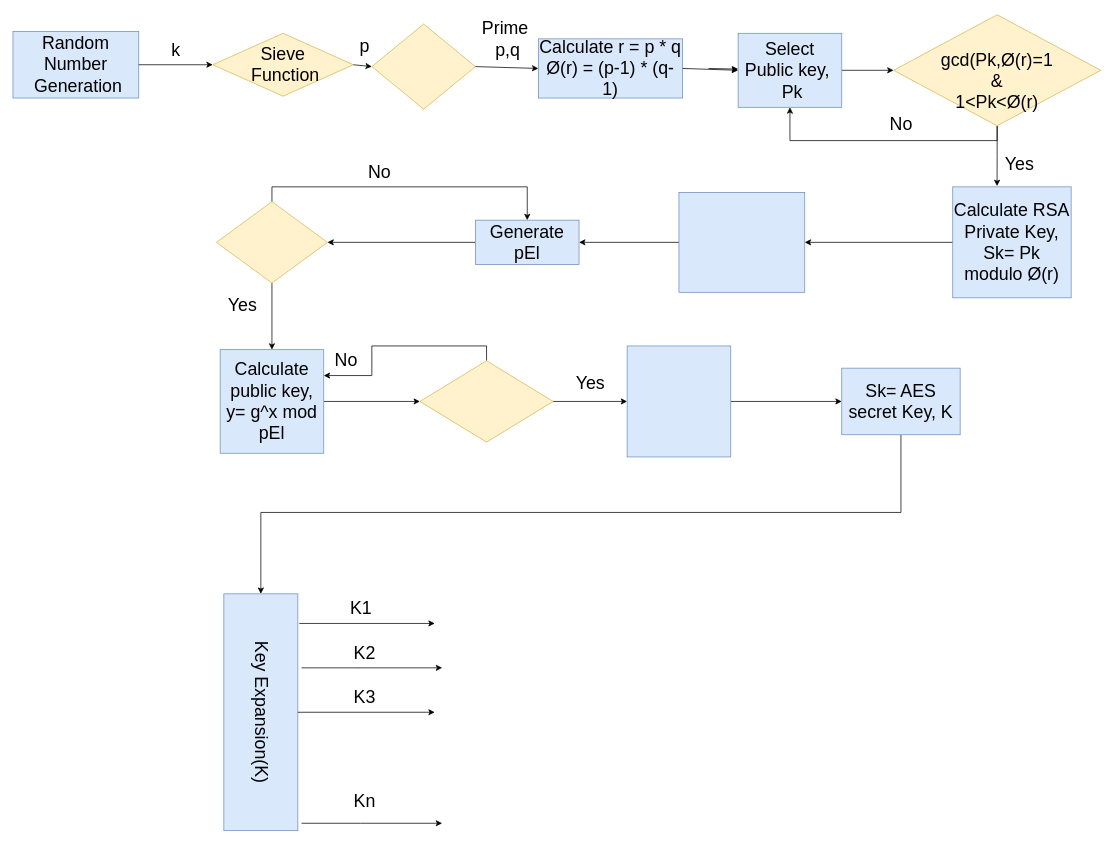
The diagram is 1114 pixels wide and 844 high, and some of its shapes have lost their labels. The centre of each missing label's shape, as x and y in pixels:
"Calculate Elgamal Public & Private Key, g=Pk, x=Sk" belongs at (x=741, y=242).
"gcd(y,Ø(r))=1" belongs at (x=486, y=401).
"Pk<pEl Sk<pEl" belongs at (x=271, y=242).
"Primality Test" belongs at (x=423, y=66).
"Recalculate Sk= (y-1) mod Ø(r)" belongs at (x=678, y=401).
